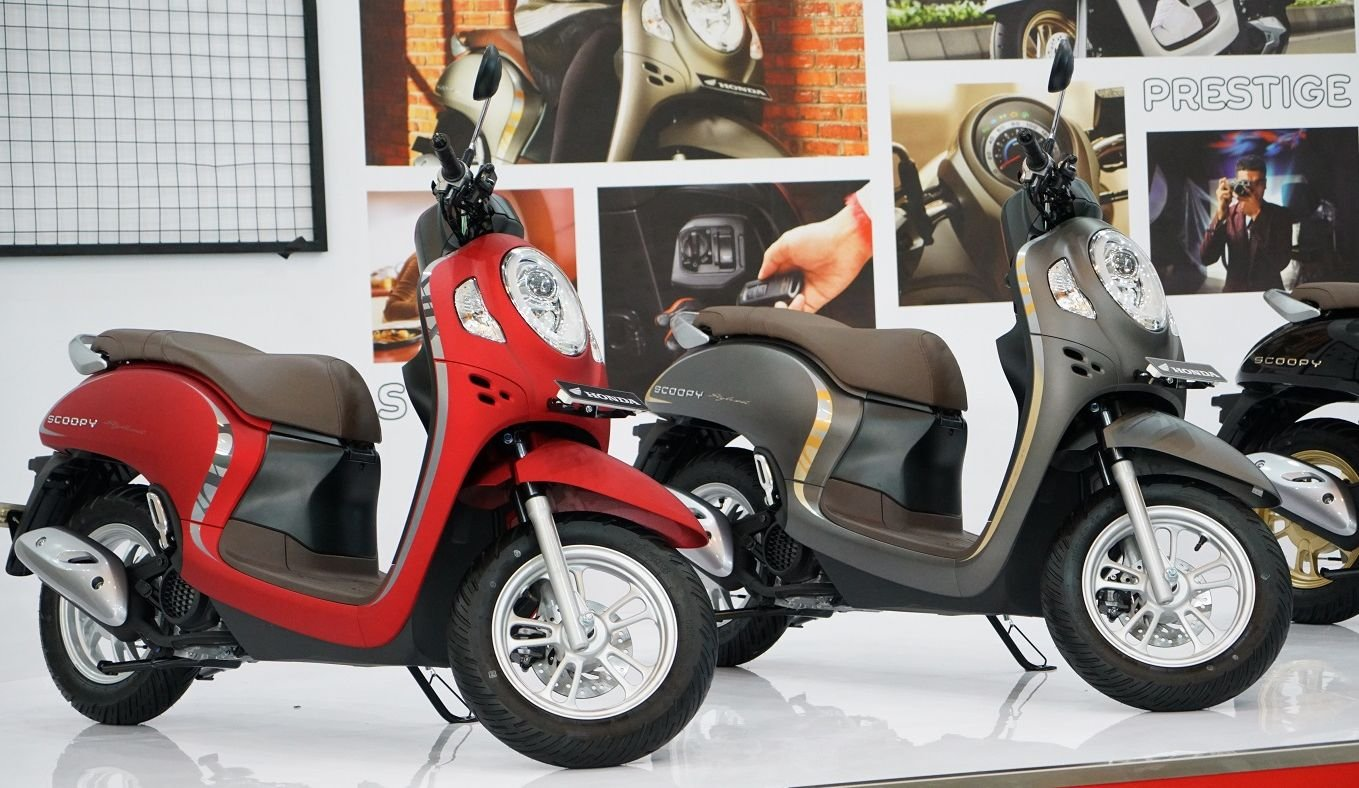motor: (29, 206, 733, 774), (663, 203, 1286, 712)
